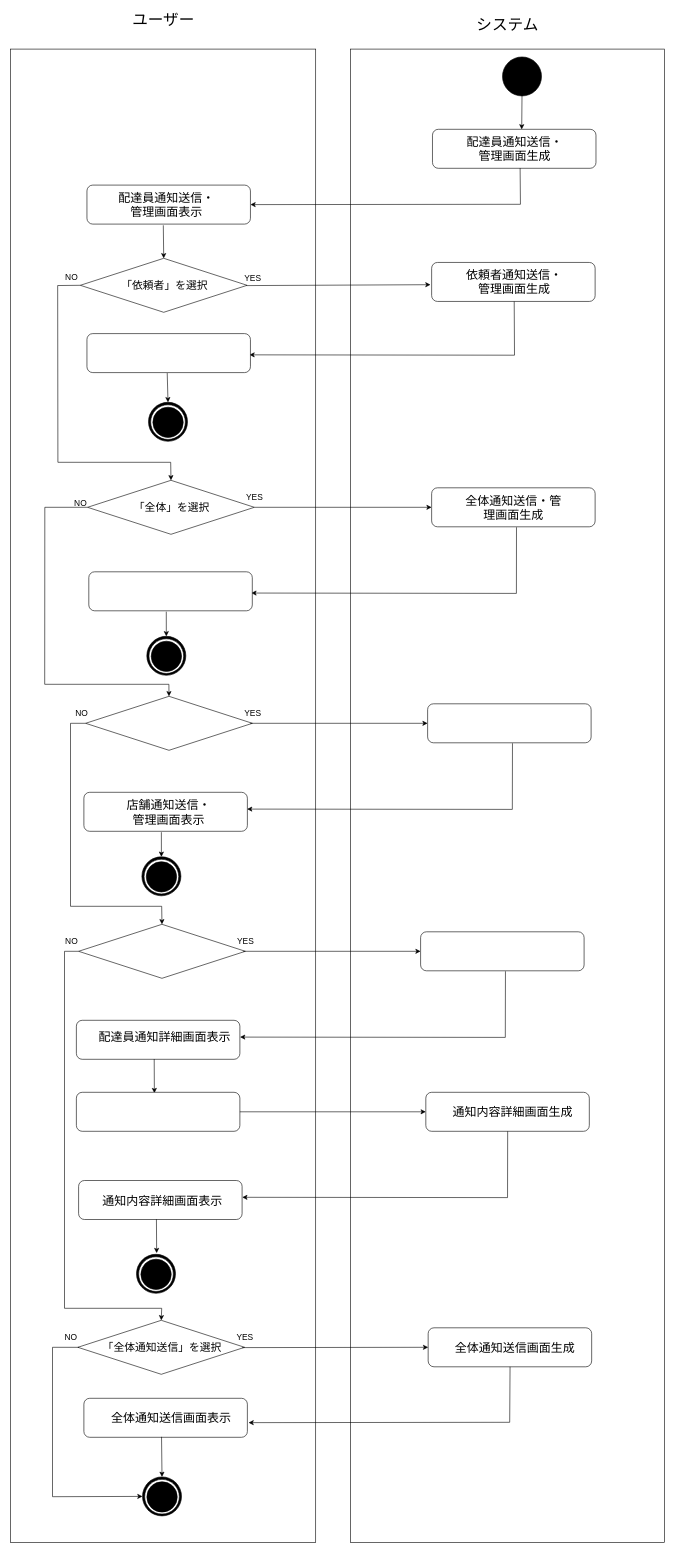
The diagram is 675 pixels wide and 1553 high, and some of its shapes have lost their labels. The centre of each missing label's shape, as x and y in pixels:
"「もっと見る」を選択" belongs at pixel 161 951.
"「店舗」を選択" belongs at pixel 168 723.
"「詳細」を選択" belongs at pixel 158 1111.
"依頼者通知送信・管理画面表示" belongs at pixel 168 353.
"全体通知送信・管理画面表示" belongs at pixel 170 591.
"店舗通知送信・管理画面生成" belongs at pixel 509 723.
"配達員通知詳細画面生成" belongs at pixel 502 951.
